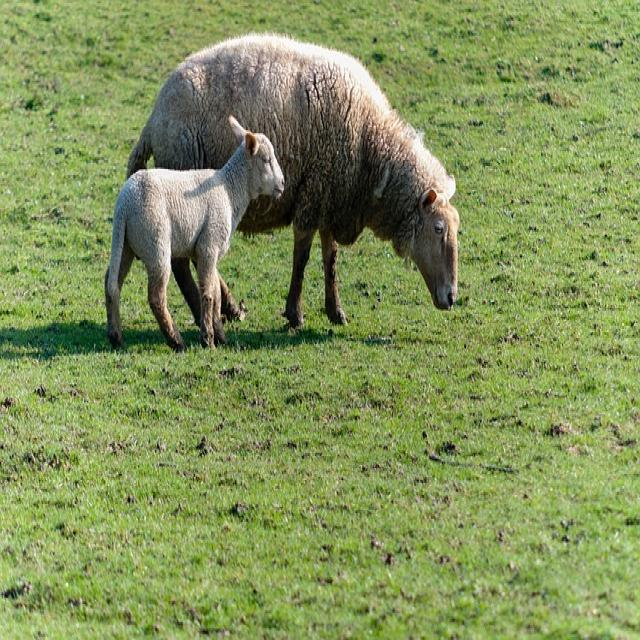sheep: (124, 32, 460, 330), (104, 114, 285, 352)
